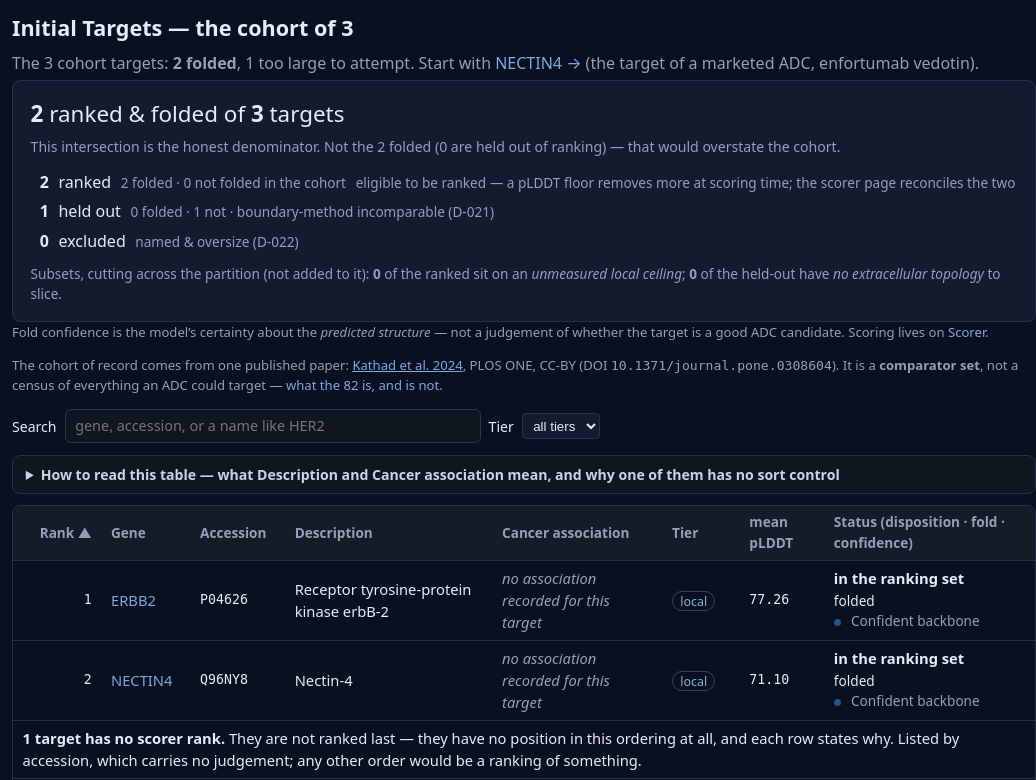
Test: D-152 — the new search boxes cannot rewrite a statistic › /targets — search and the tier filter both still work above the disclosure
Type "HER2" into the search field labelled "Search".
click(273, 426); type("HER2")  # box [65,409,481,444]
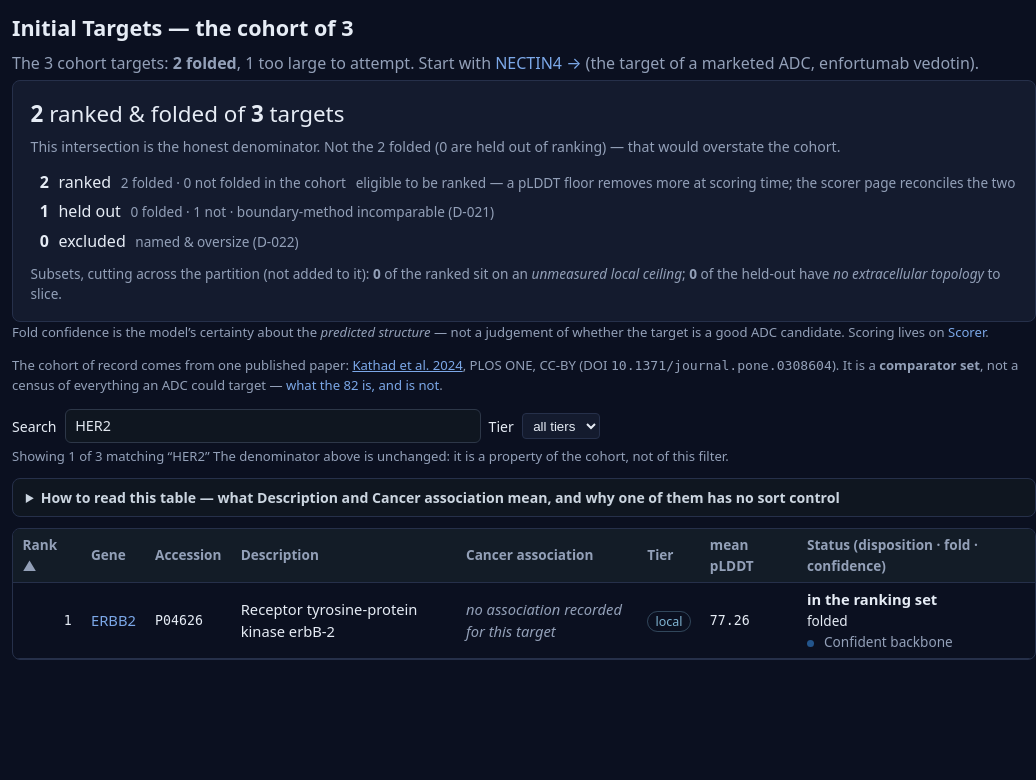
Expected: the table shows "ERBB2", [91,610,136,630]
Now the text with class "filter-count" shows "Showing 1 of 3", box [12,447,729,465]
